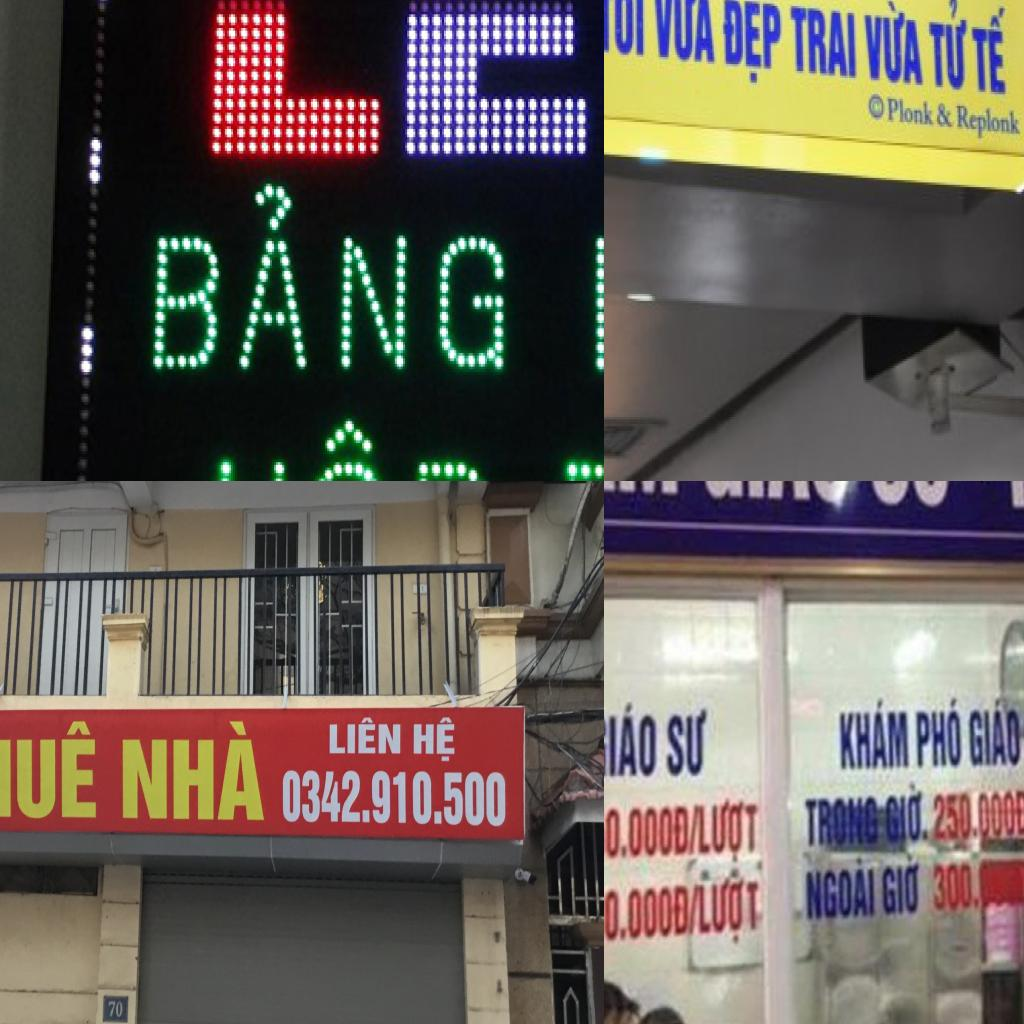text: (147, 181, 512, 383), (202, 0, 604, 167), (204, 416, 493, 481), (115, 718, 266, 822), (279, 765, 510, 829), (0, 719, 97, 821), (604, 878, 695, 950), (929, 782, 1024, 848), (837, 688, 910, 772), (721, 0, 784, 91), (863, 0, 926, 89), (789, 4, 859, 82), (604, 800, 689, 861), (803, 854, 877, 922), (964, 692, 1024, 773), (696, 874, 762, 945), (604, 692, 656, 782), (803, 794, 883, 851), (652, 0, 718, 69), (697, 796, 761, 864), (914, 688, 964, 770), (928, 0, 971, 94), (971, 6, 1009, 99), (666, 702, 710, 780), (324, 715, 402, 758), (880, 848, 926, 920), (883, 778, 926, 848), (864, 481, 959, 512), (932, 859, 984, 915), (604, 0, 647, 61), (411, 712, 458, 764), (886, 94, 936, 129), (688, 800, 702, 858), (688, 881, 701, 938), (936, 99, 957, 131), (107, 998, 123, 1019)
